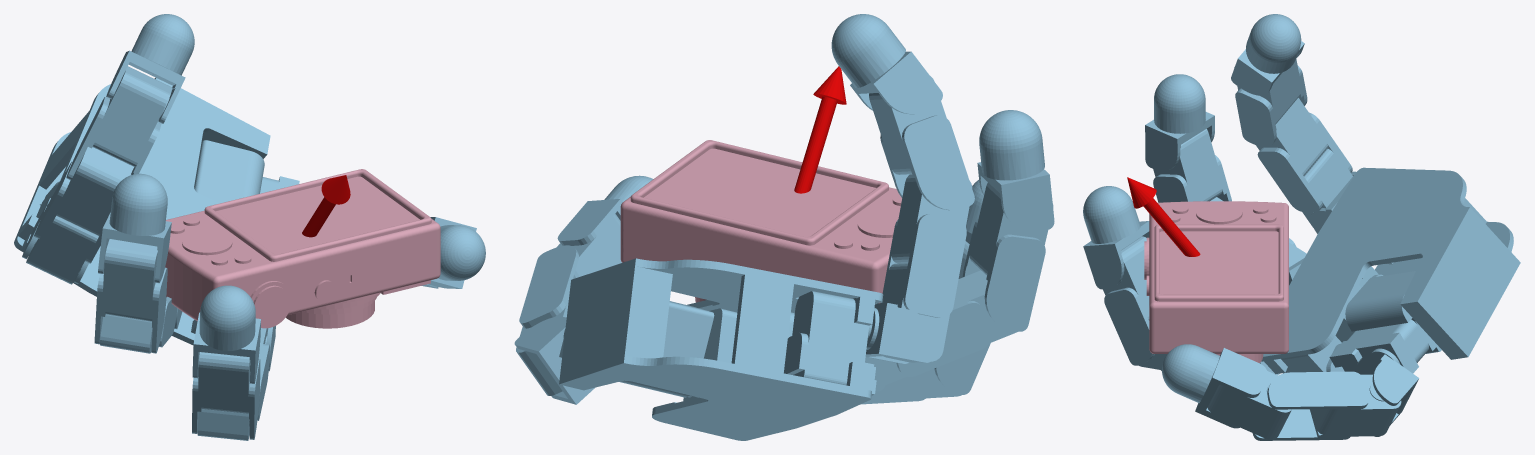
3 renders of one model, left to right at view 1: azimuth 30°, elevation 25°; view 2: azimuth 150°, elevation 25°; view 3: azimuth 270°, elevation 25°, orthographic. The views are drawn at different scales.
Visible parts, largest first — view 1: world, camera.stl; view 2: world, camera.stl; view 3: world, camera.stl.
Part boxes in pixels (x1,y1,x2,y2): world: (14,14,485,440); camera.stl: (165,169,440,328); world: (514,14,1054,440); camera.stl: (620,140,901,303); world: (1083,14,1520,440); camera.stl: (1144,201,1288,362).
Bounding box in the file's own units: 0.2006 × 0.1815 × 0.2027.
